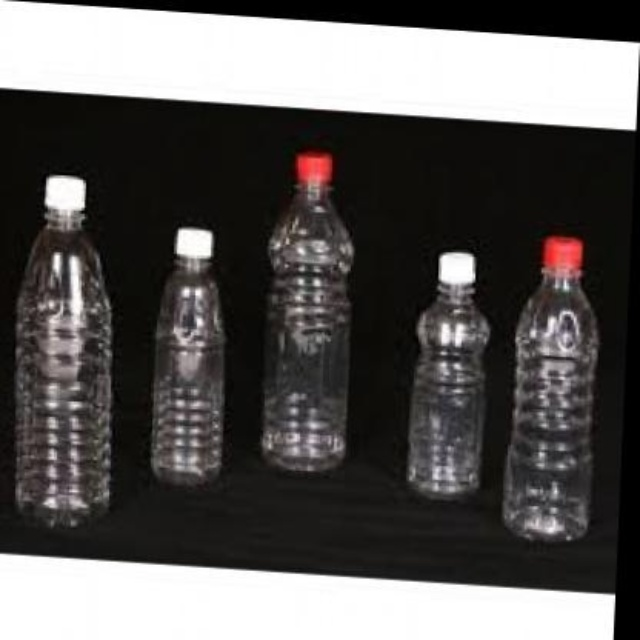trash: (15, 175, 111, 526), (262, 152, 352, 471), (503, 235, 597, 540), (408, 251, 488, 498), (151, 228, 223, 486)
